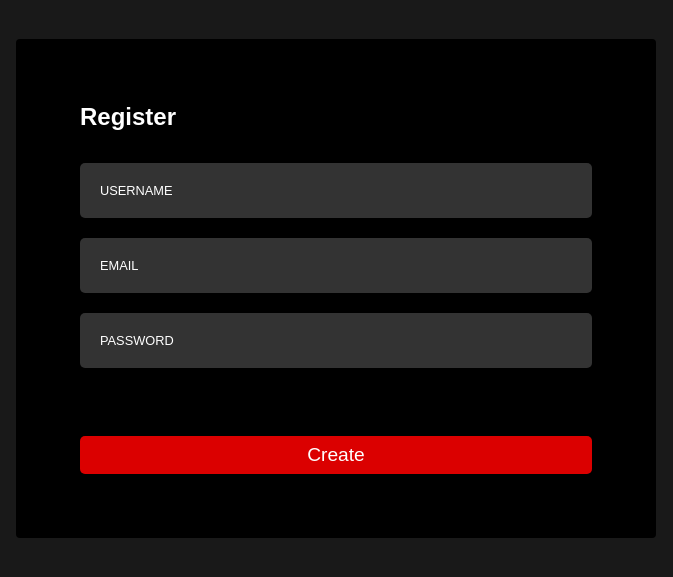
Scenario: Register › should not submit the form if it is not fill out
Click the button "Create": (336, 454) left=80, top=436, right=592, bottom=474
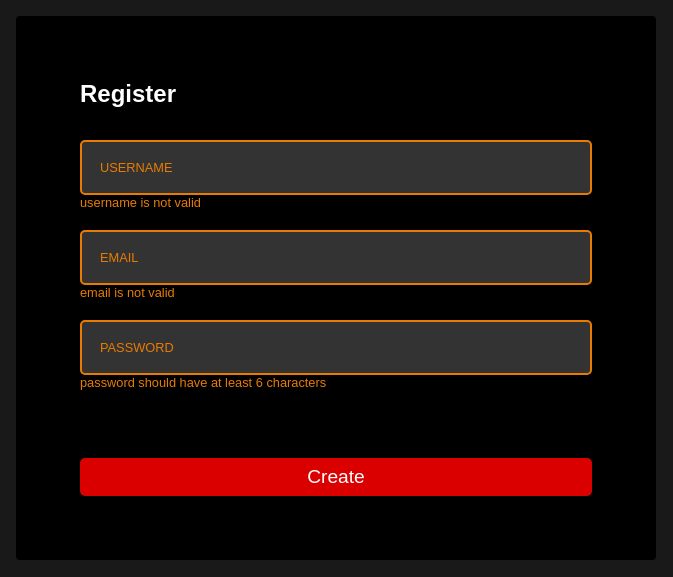
Result: the text "username is not valid" is shown at left=80, top=195, right=201, bottom=210
Result: the text "email is not valid" is shown at left=80, top=285, right=175, bottom=300
Result: the text "password should have at least 6 characters" is shown at left=80, top=375, right=326, bottom=390
